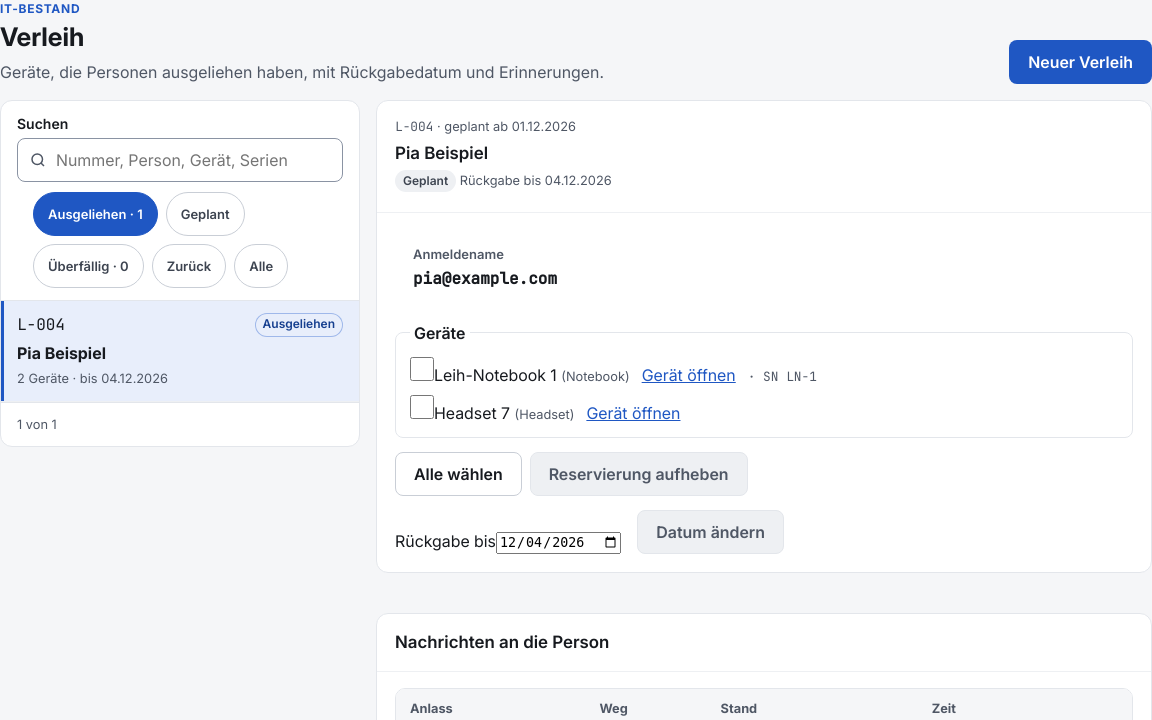
Test: Verleih › hebt die Reservierung eines geplanten Verleihs erst nach Rückfrage auf
Expected: the text "L-004 · geplant ab 01.12.2026" is shown, [395,118,576,135]
Expected: the button "Rückgabe eintragen" is not shown
Click the button "Alle wählen" at point(458, 474), box [395,452,522,496]
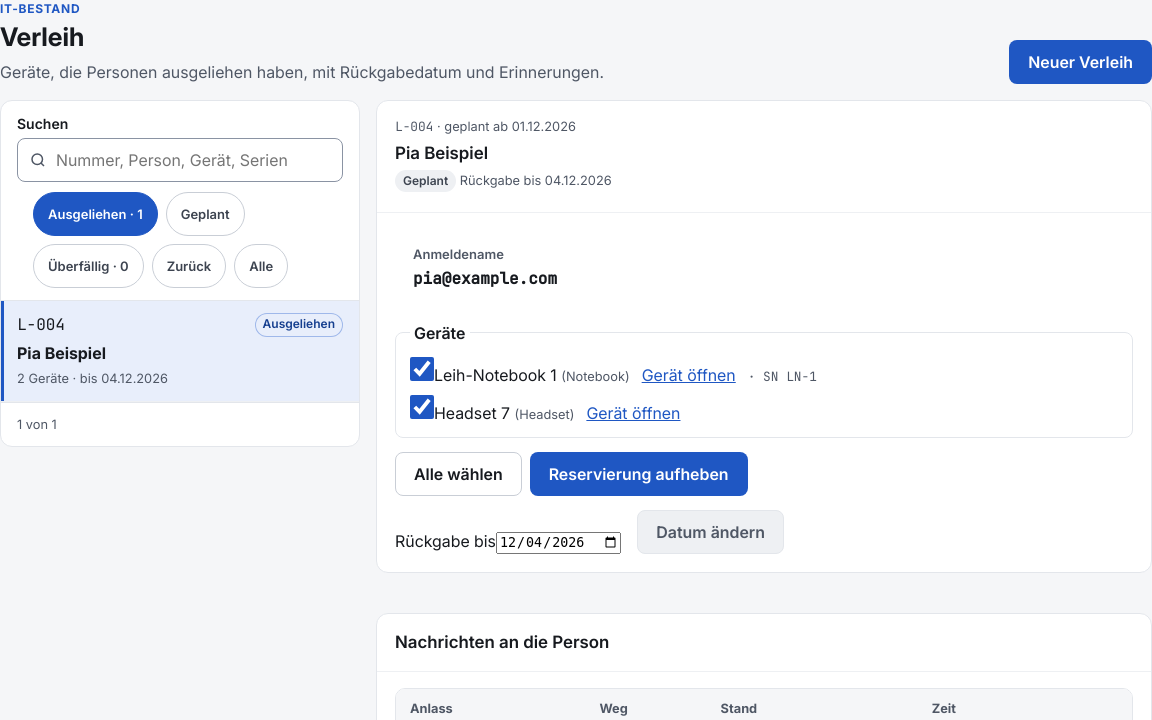
Click the button "Reservierung aufheben" at point(639, 474), box [530,452,748,496]
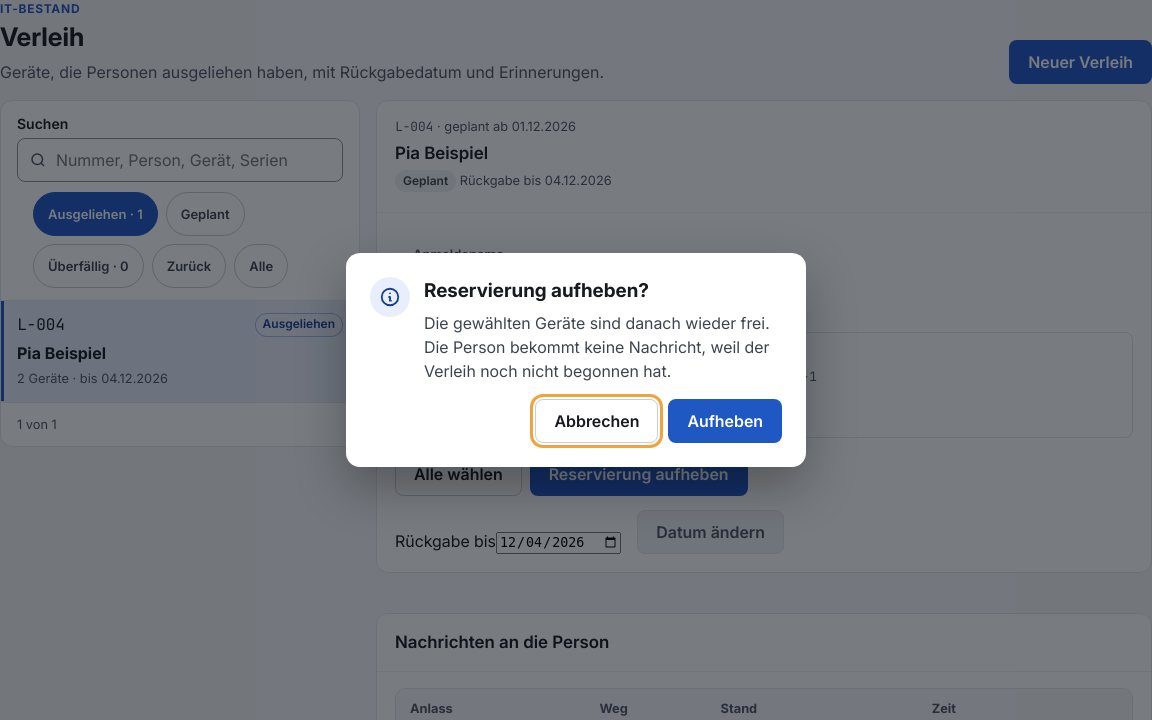
Click the button "Aufheben" at point(725, 421), box [668,399,782,443]
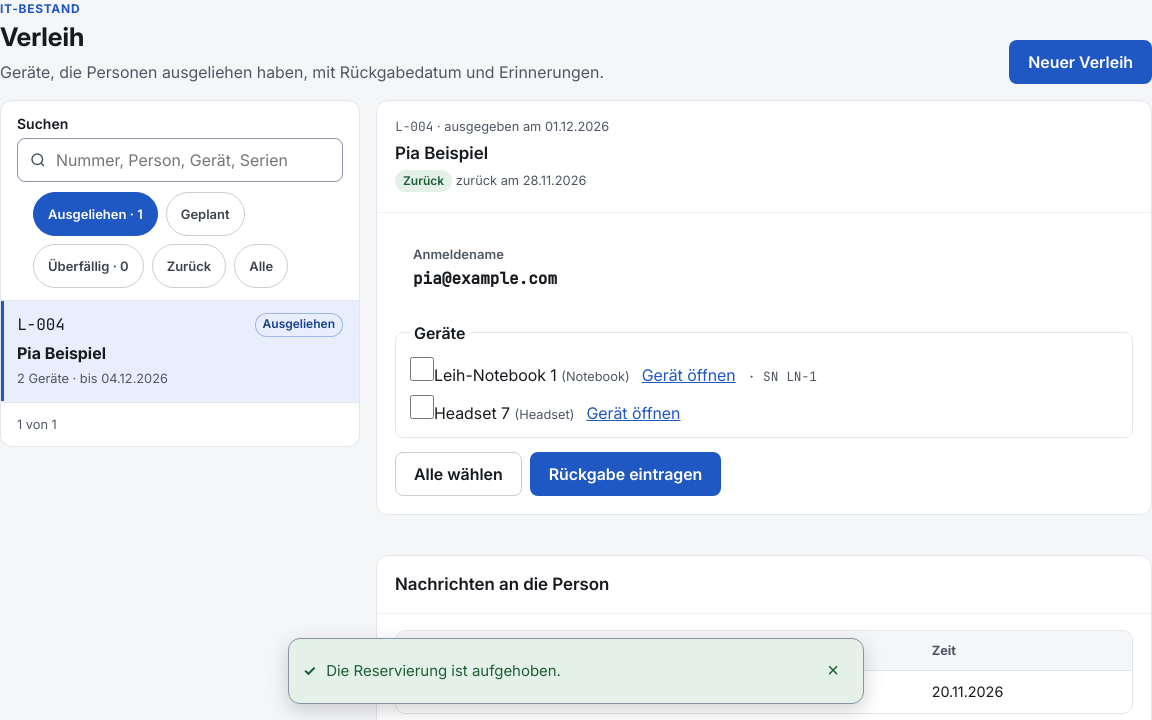
Result: the text "Die Reservierung ist aufgehoben." is shown at [326,660,561,680]
